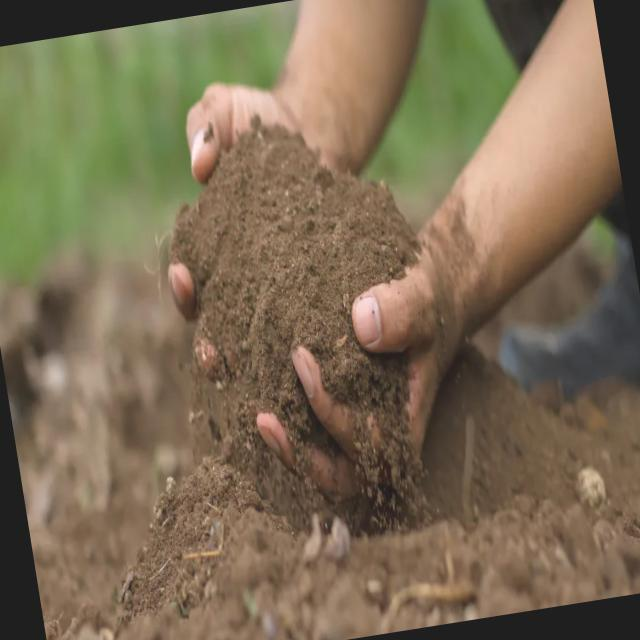suelo_humedo: (44, 111, 626, 640)
